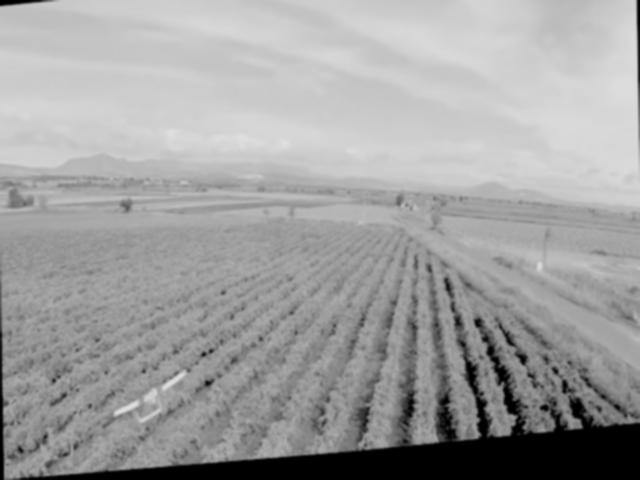hedef: (106, 366, 192, 435)
